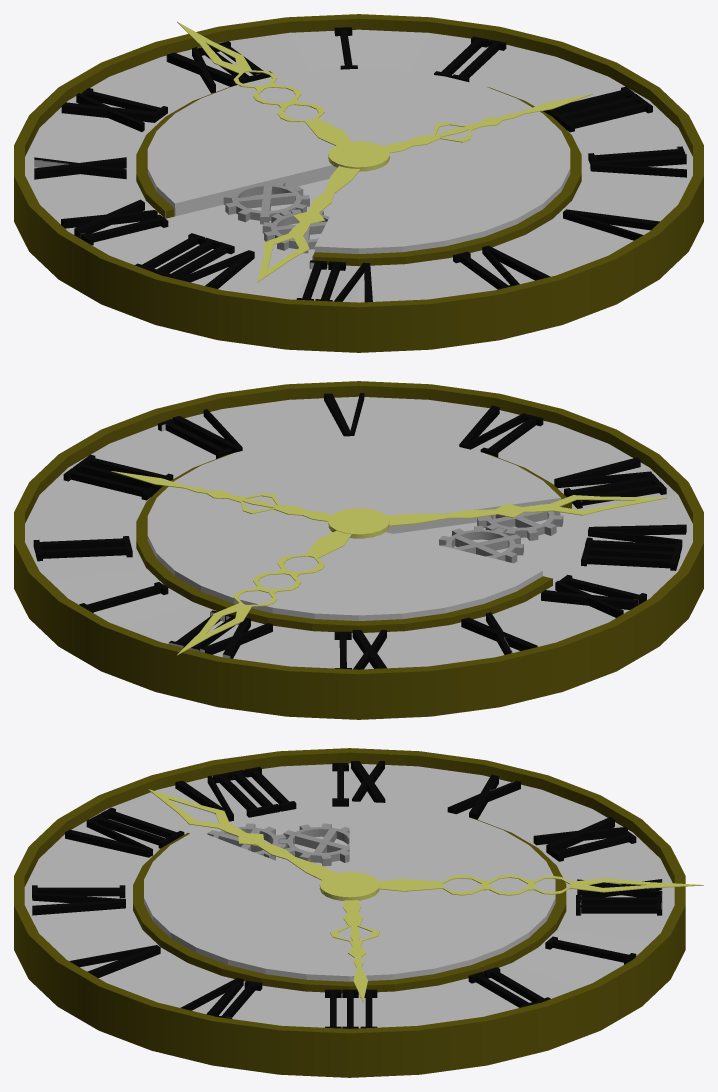
File: obj_clock_01.fbx
The picture shows the model from 3 angles, top to bottom: view 1: azimuth 30°, elevation 25°; view 2: azimuth 150°, elevation 25°; view 3: azimuth 270°, elevation 25°; orthographic projection. The views are drawn at different scales.
Parts seen in each view (by area): view 1: polySurface10, hari_1, hari_2, hari_3, ziku_1; view 2: polySurface10, hari_1, hari_2, hari_3, ziku_1; view 3: polySurface10, hari_1, hari_2, hari_3, ziku_1.
Boxes of the visible parts, x1,y1,x2,y2 form: polySurface10: (14,14,703,352); hari_1: (177,21,350,145); hari_2: (257,166,360,282); hari_3: (384,93,592,153); ziku_1: (328,141,389,168); polySurface10: (14,381,703,719); hari_1: (177,530,351,655); hari_2: (387,495,667,525); hari_3: (111,471,331,521); ziku_1: (328,508,389,535); polySurface10: (14,748,685,1077); hari_1: (378,875,703,895); hari_2: (148,789,336,880); hari_3: (330,900,379,1002); ziku_1: (319,872,379,898).
Bounding box in the file's own units: 8.57 × 0.7089 × 8.76.
2 materials, 1 textured.
